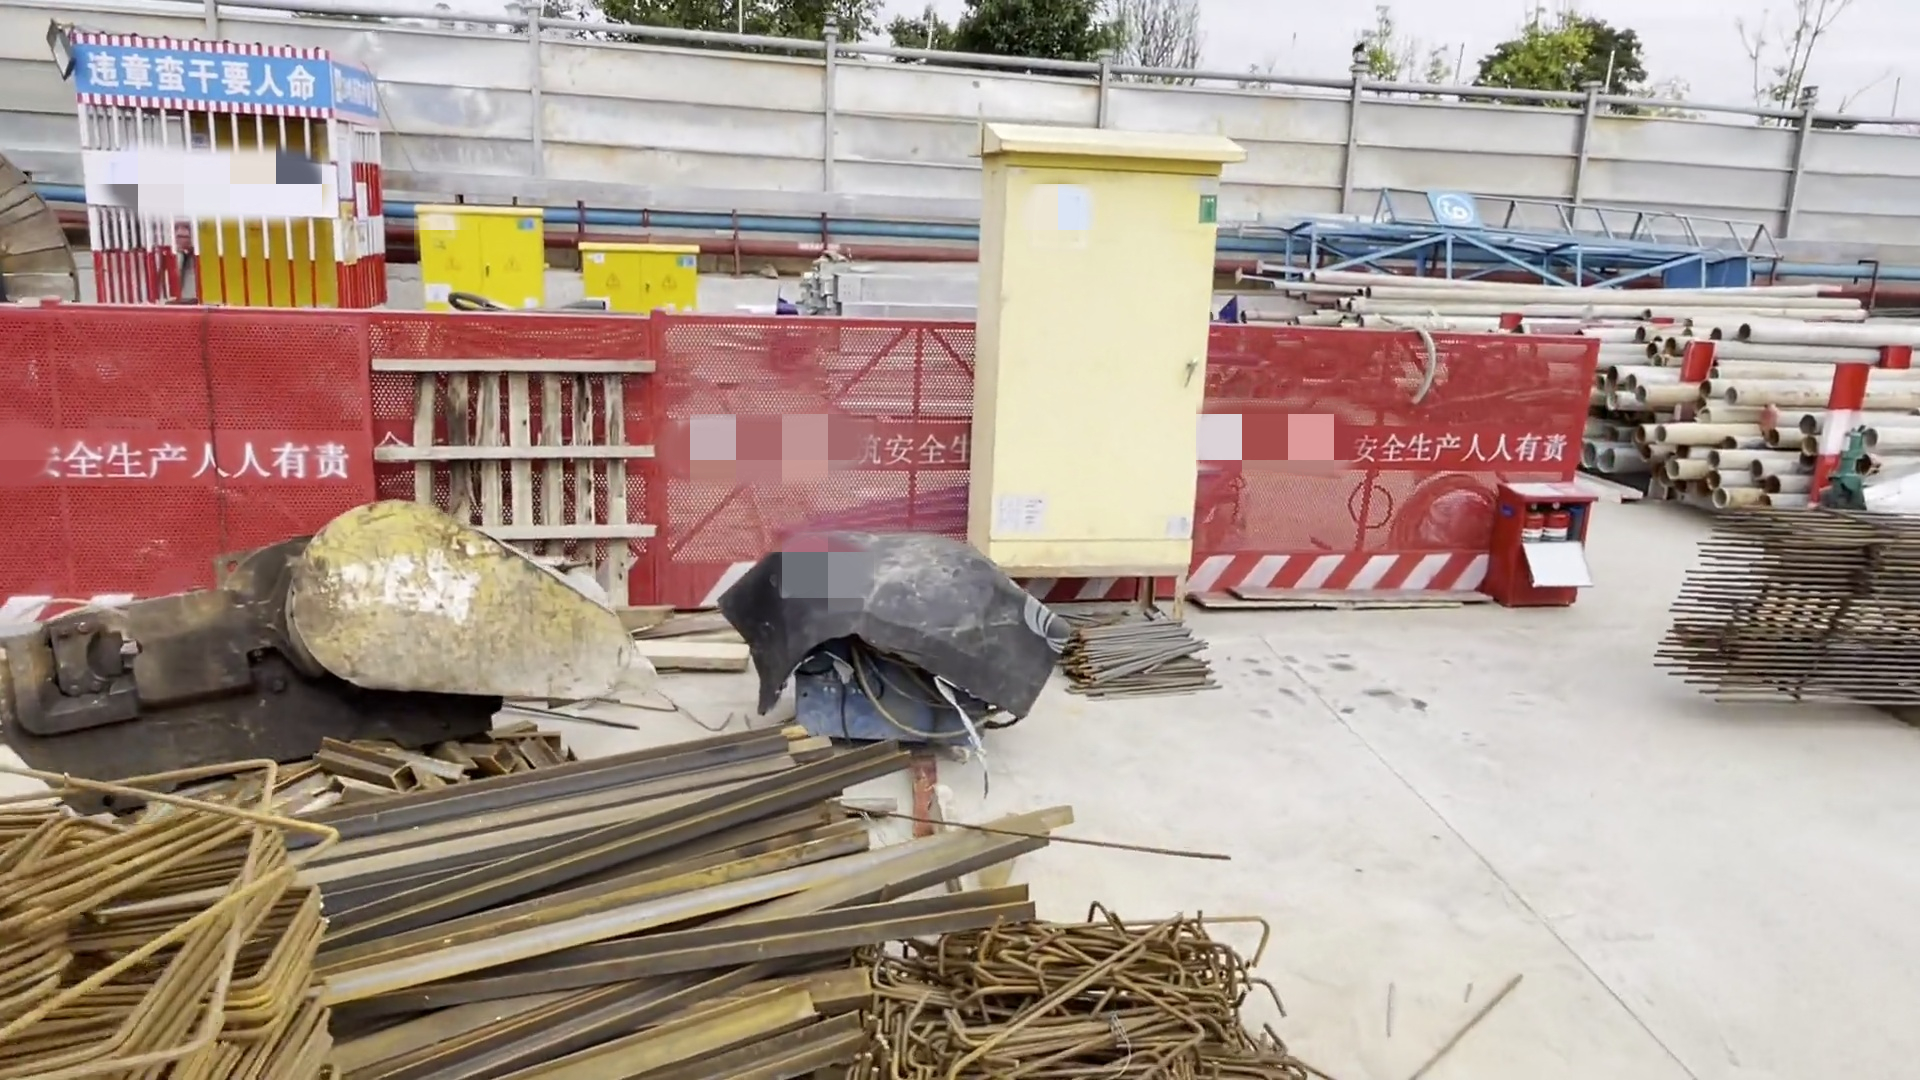ebox: (967, 113, 1216, 595), (181, 109, 336, 311), (413, 196, 534, 310), (582, 237, 703, 310)
fence: (384, 311, 1589, 588), (3, 302, 385, 580)
rebar: (1648, 502, 1920, 723), (1069, 604, 1205, 696)
slogan: (73, 37, 343, 112)
